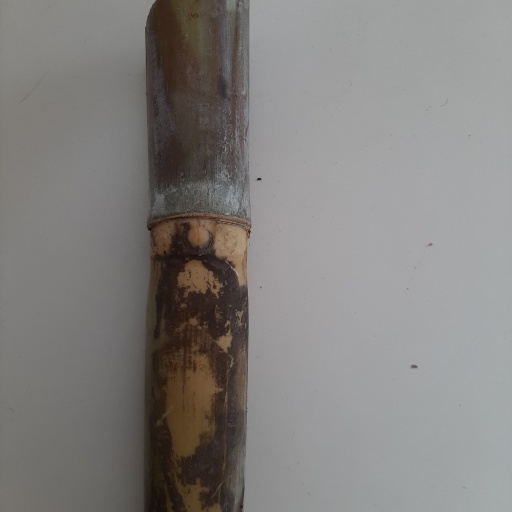Bud: (186, 223, 212, 252)
